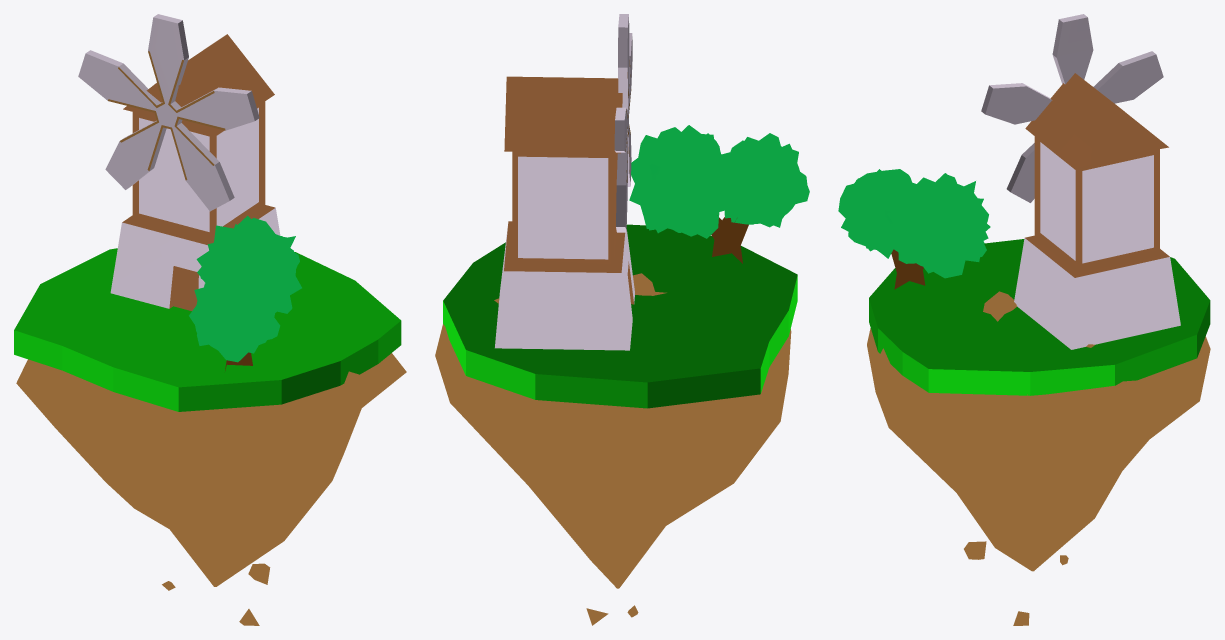
3 views of the same model, side by side, from view 1: azimuth 30°, elevation 25°; view 2: azimuth 150°, elevation 25°; view 3: azimuth 270°, elevation 25° (orthographic). The views are drawn at different scales.
Parts seen in each view (by area): view 1: Island, Green_platform, Mill, propeller, Tree; view 2: Island, Green_platform, Mill, Tree, propeller; view 3: Island, Mill, Green_platform, Tree, propeller.
Part boxes in pixels (x1=…): Island: x1=16, y1=353, x2=406, y2=625; Green_platform: x1=14, y1=248, x2=401, y2=411; Mill: x1=110, y1=34, x2=280, y2=310; propeller: x1=78, y1=14, x2=259, y2=211; Tree: x1=189, y1=215, x2=301, y2=370; Island: x1=435, y1=273, x2=791, y2=625; Green_platform: x1=443, y1=224, x2=797, y2=408; Mill: x1=495, y1=76, x2=634, y2=350; Tree: x1=629, y1=125, x2=809, y2=263; propeller: x1=614, y1=14, x2=632, y2=232; Island: x1=867, y1=291, x2=1210, y2=625; Mill: x1=1014, y1=73, x2=1180, y2=349; Green_platform: x1=869, y1=239, x2=1210, y2=395; Tree: x1=838, y1=169, x2=990, y2=289; propeller: x1=981, y1=14, x2=1163, y2=202.
Size of the model in its own units: 5.26 by 9.71 by 5.62.
